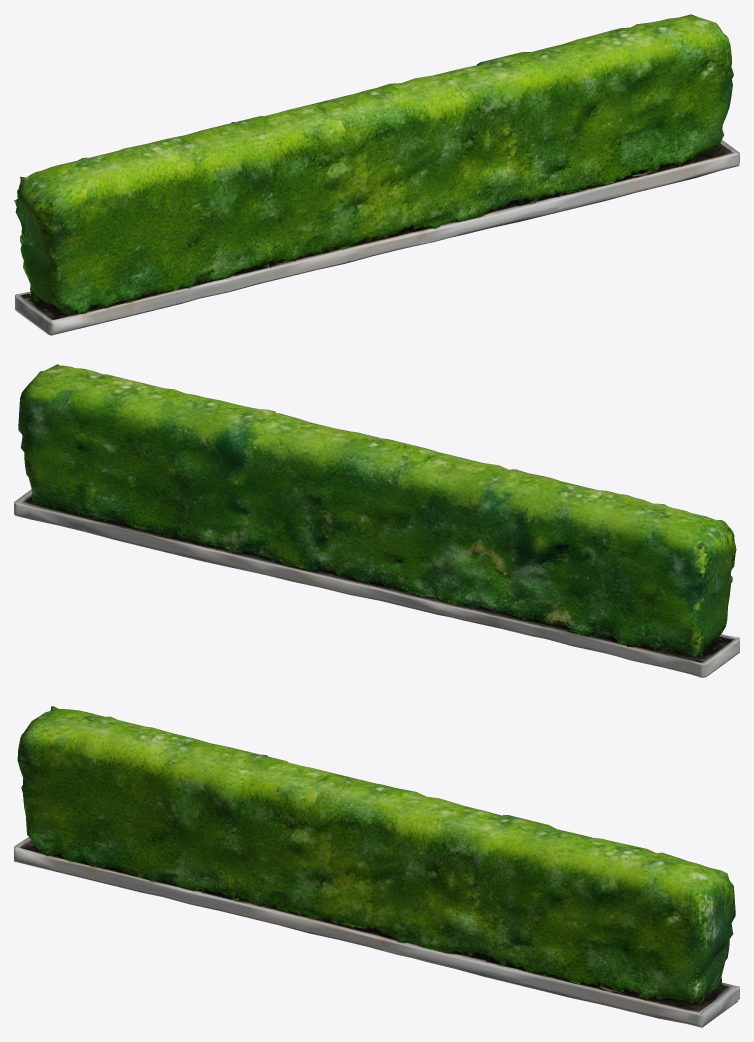
Rendered from green_hedge_0124032921_texture.glb.
3 renders of one model, top to bottom at view 1: azimuth 30°, elevation 25°; view 2: azimuth 150°, elevation 25°; view 3: azimuth 330°, elevation 25°, orthographic.
Visible parts, largest first — view 1: Mesh_0; view 2: Mesh_0; view 3: Mesh_0.
Part boxes in pixels (x1,y1,x2,y2): Mesh_0: (14, 14, 739, 335); Mesh_0: (14, 364, 739, 677); Mesh_0: (14, 706, 739, 1027).
Bounding box in the file's own units: 6.12 × 1.22 × 0.6536.
1 material, 1 textured.
